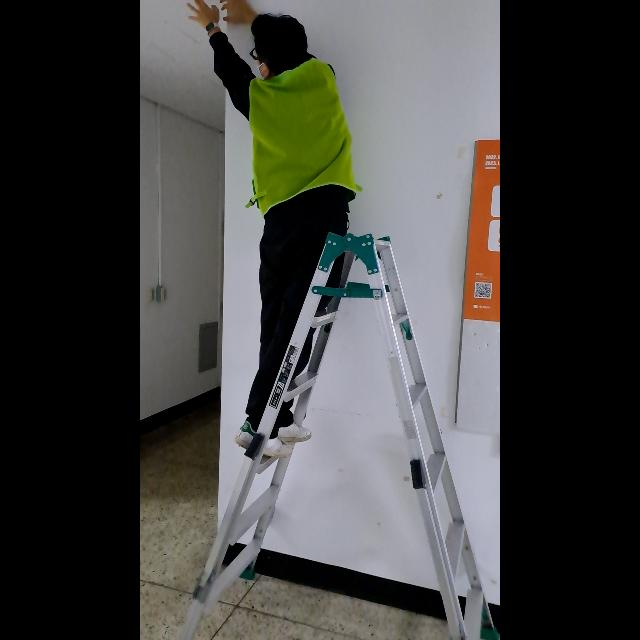vest: (186, 1, 358, 466)
